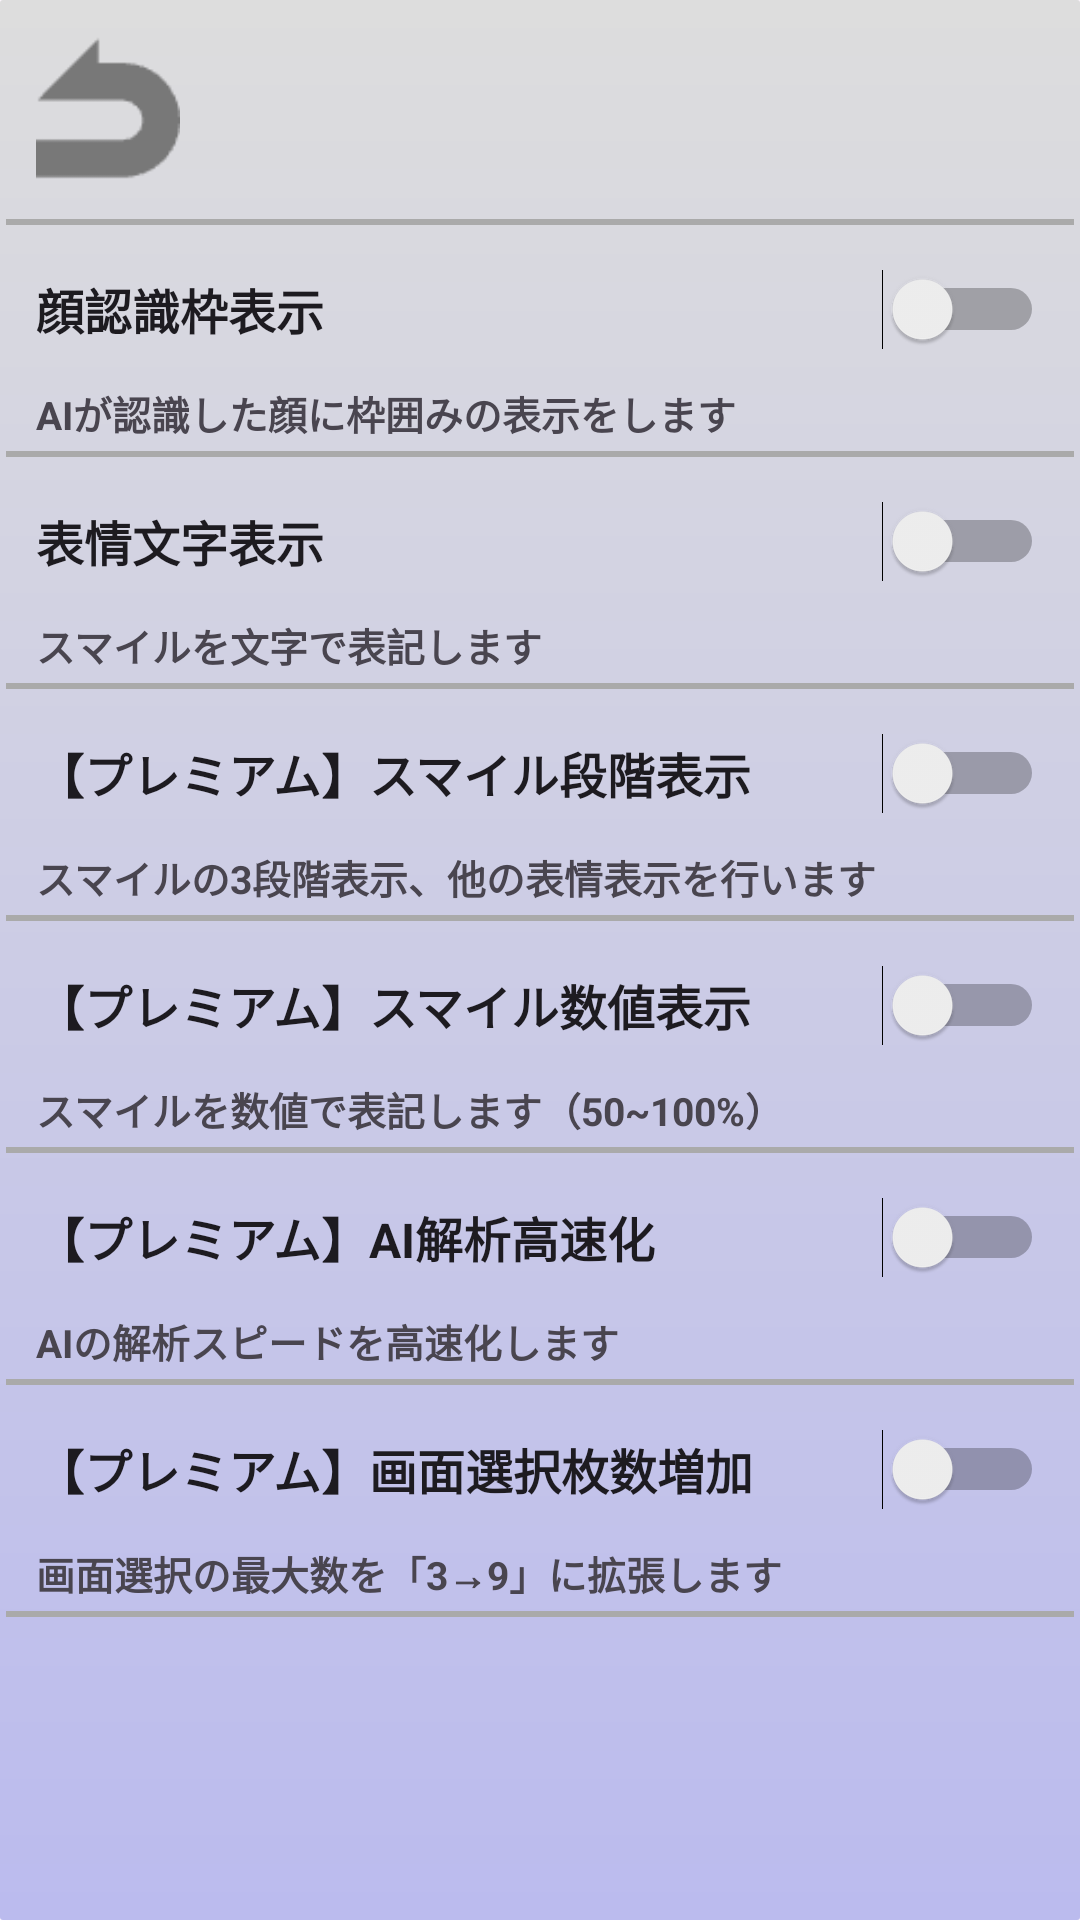

Where to tap for icons on this 1080×1920 app screen, as (x=x, y=y):
戻るボタン: (x=108, y=108)
